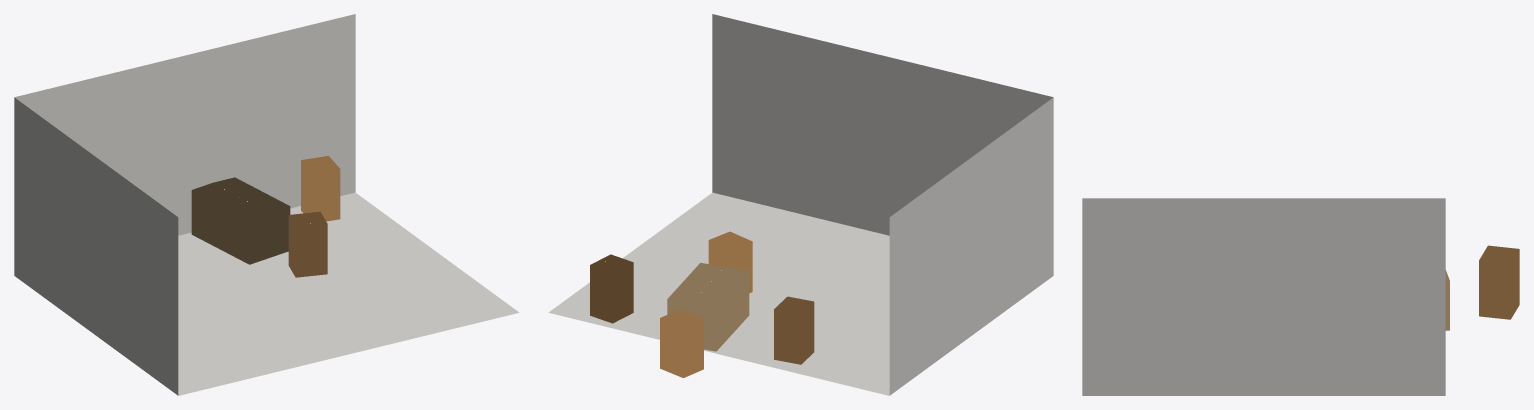
3 views of the same model, side by side, from view 1: azimuth 30°, elevation 25°; view 2: azimuth 150°, elevation 25°; view 3: azimuth 270°, elevation 25° (orthographic). The views are drawn at different scales.
Visible parts, largest first — view 1: Room, wood_table_mesh, dining_chair_3_mesh, dining_chair_0_mesh; view 2: Room, wood_table_mesh, dining_chair_0_mesh, dining_chair_2_mesh, dining_chair_1_mesh, dining_chair_3_mesh; view 3: Room, dining_chair_2_mesh.
Boxes of the visible parts, x1,y1,x2,y2 form: Room: [14, 14, 519, 395]; wood_table_mesh: [191, 177, 290, 264]; dining_chair_3_mesh: [288, 211, 327, 277]; dining_chair_0_mesh: [301, 156, 340, 221]; Room: [548, 14, 1053, 395]; wood_table_mesh: [667, 263, 749, 351]; dining_chair_0_mesh: [590, 254, 633, 323]; dining_chair_2_mesh: [660, 309, 703, 377]; dining_chair_1_mesh: [774, 296, 814, 364]; dining_chair_3_mesh: [708, 231, 752, 293]; Room: [1082, 198, 1445, 395]; dining_chair_2_mesh: [1479, 245, 1519, 319].
Bounding box in the file's own units: 6 × 3 × 6.02.
